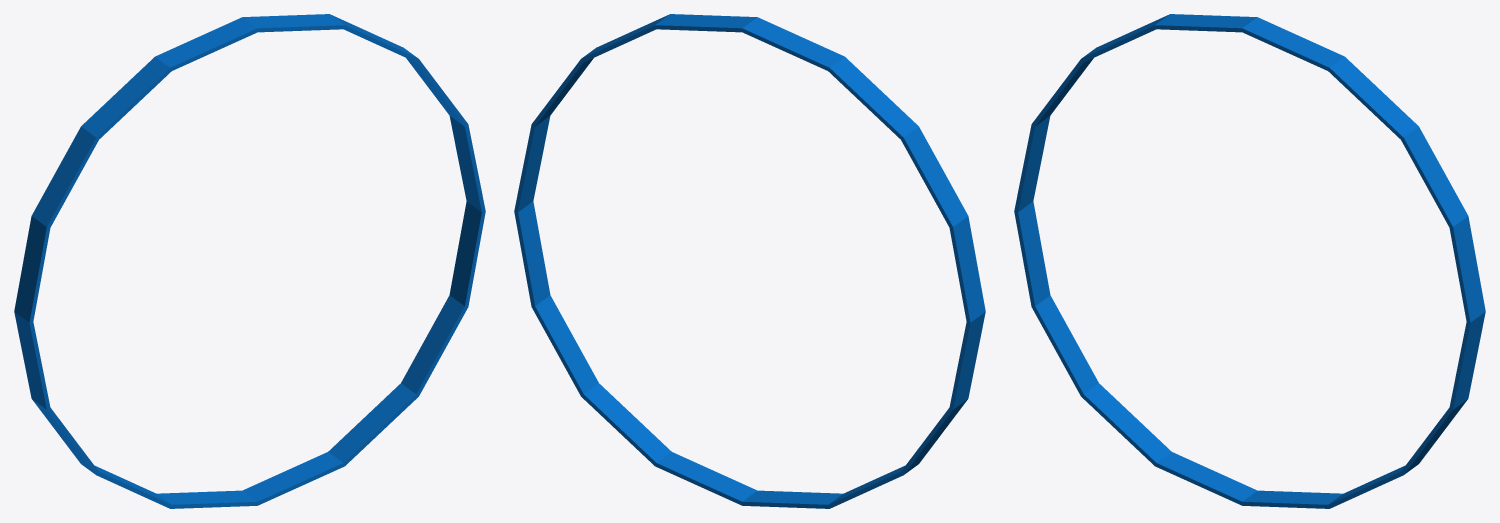
File: radius2.obj
The picture shows the model from 3 angles, left to right: view 1: azimuth 30°, elevation 25°; view 2: azimuth 150°, elevation 25°; view 3: azimuth 330°, elevation 25°; orthographic projection.
Visible parts, largest first — view 1: azul; view 2: azul; view 3: azul.
Part boxes in pixels (left/top/right/bottom): azul: left=14, top=14, right=485, bottom=508; azul: left=514, top=14, right=985, bottom=508; azul: left=1014, top=14, right=1485, bottom=508.
Bounding box in the file's own units: 2 × 2 × 0.1161.
